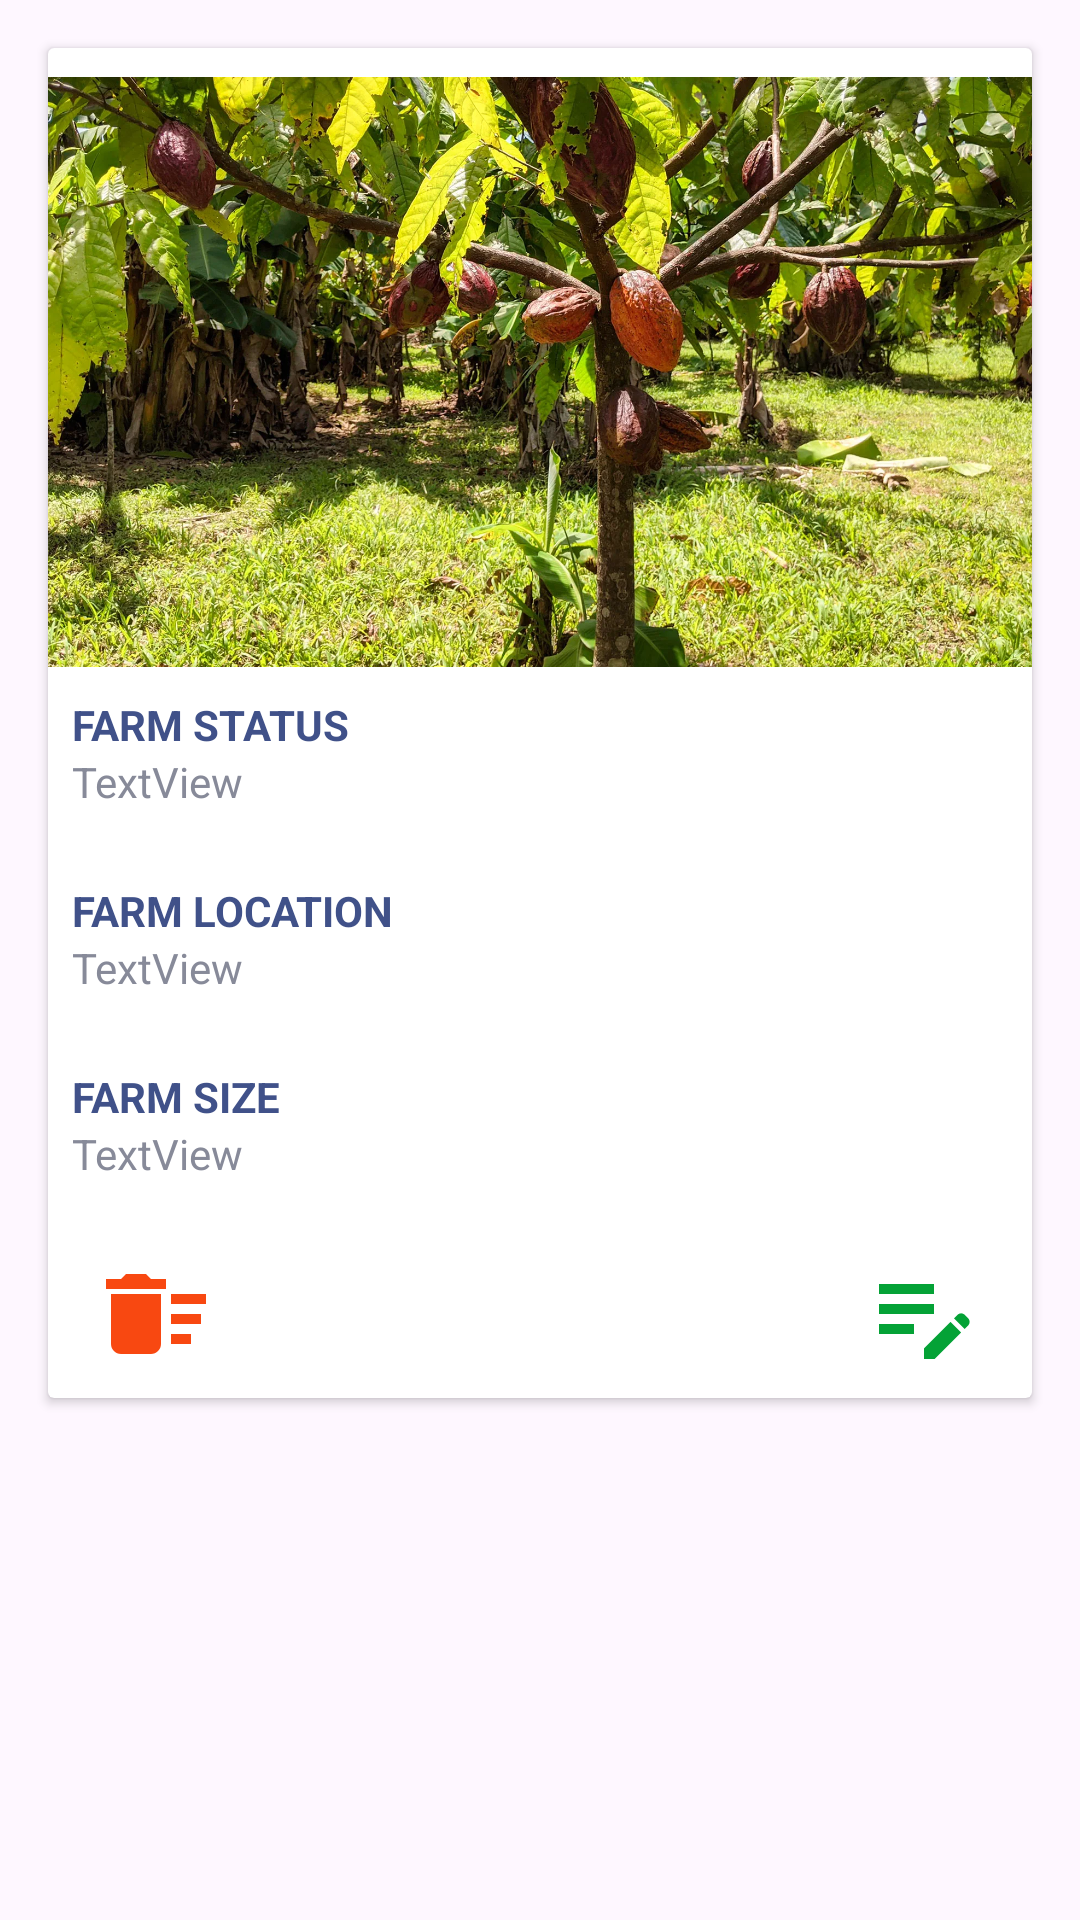

Icons on this 1080px x 1920px Android screen, each with its box as (x1, y1, x2, y2):
delete sweep: (106, 1274, 206, 1354)
edit note: (879, 1284, 970, 1359)
